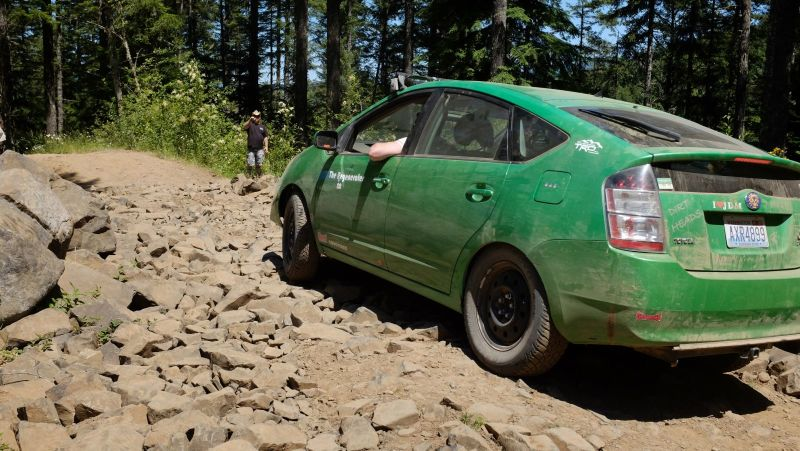Toyota Prius: (267, 78, 800, 382)
